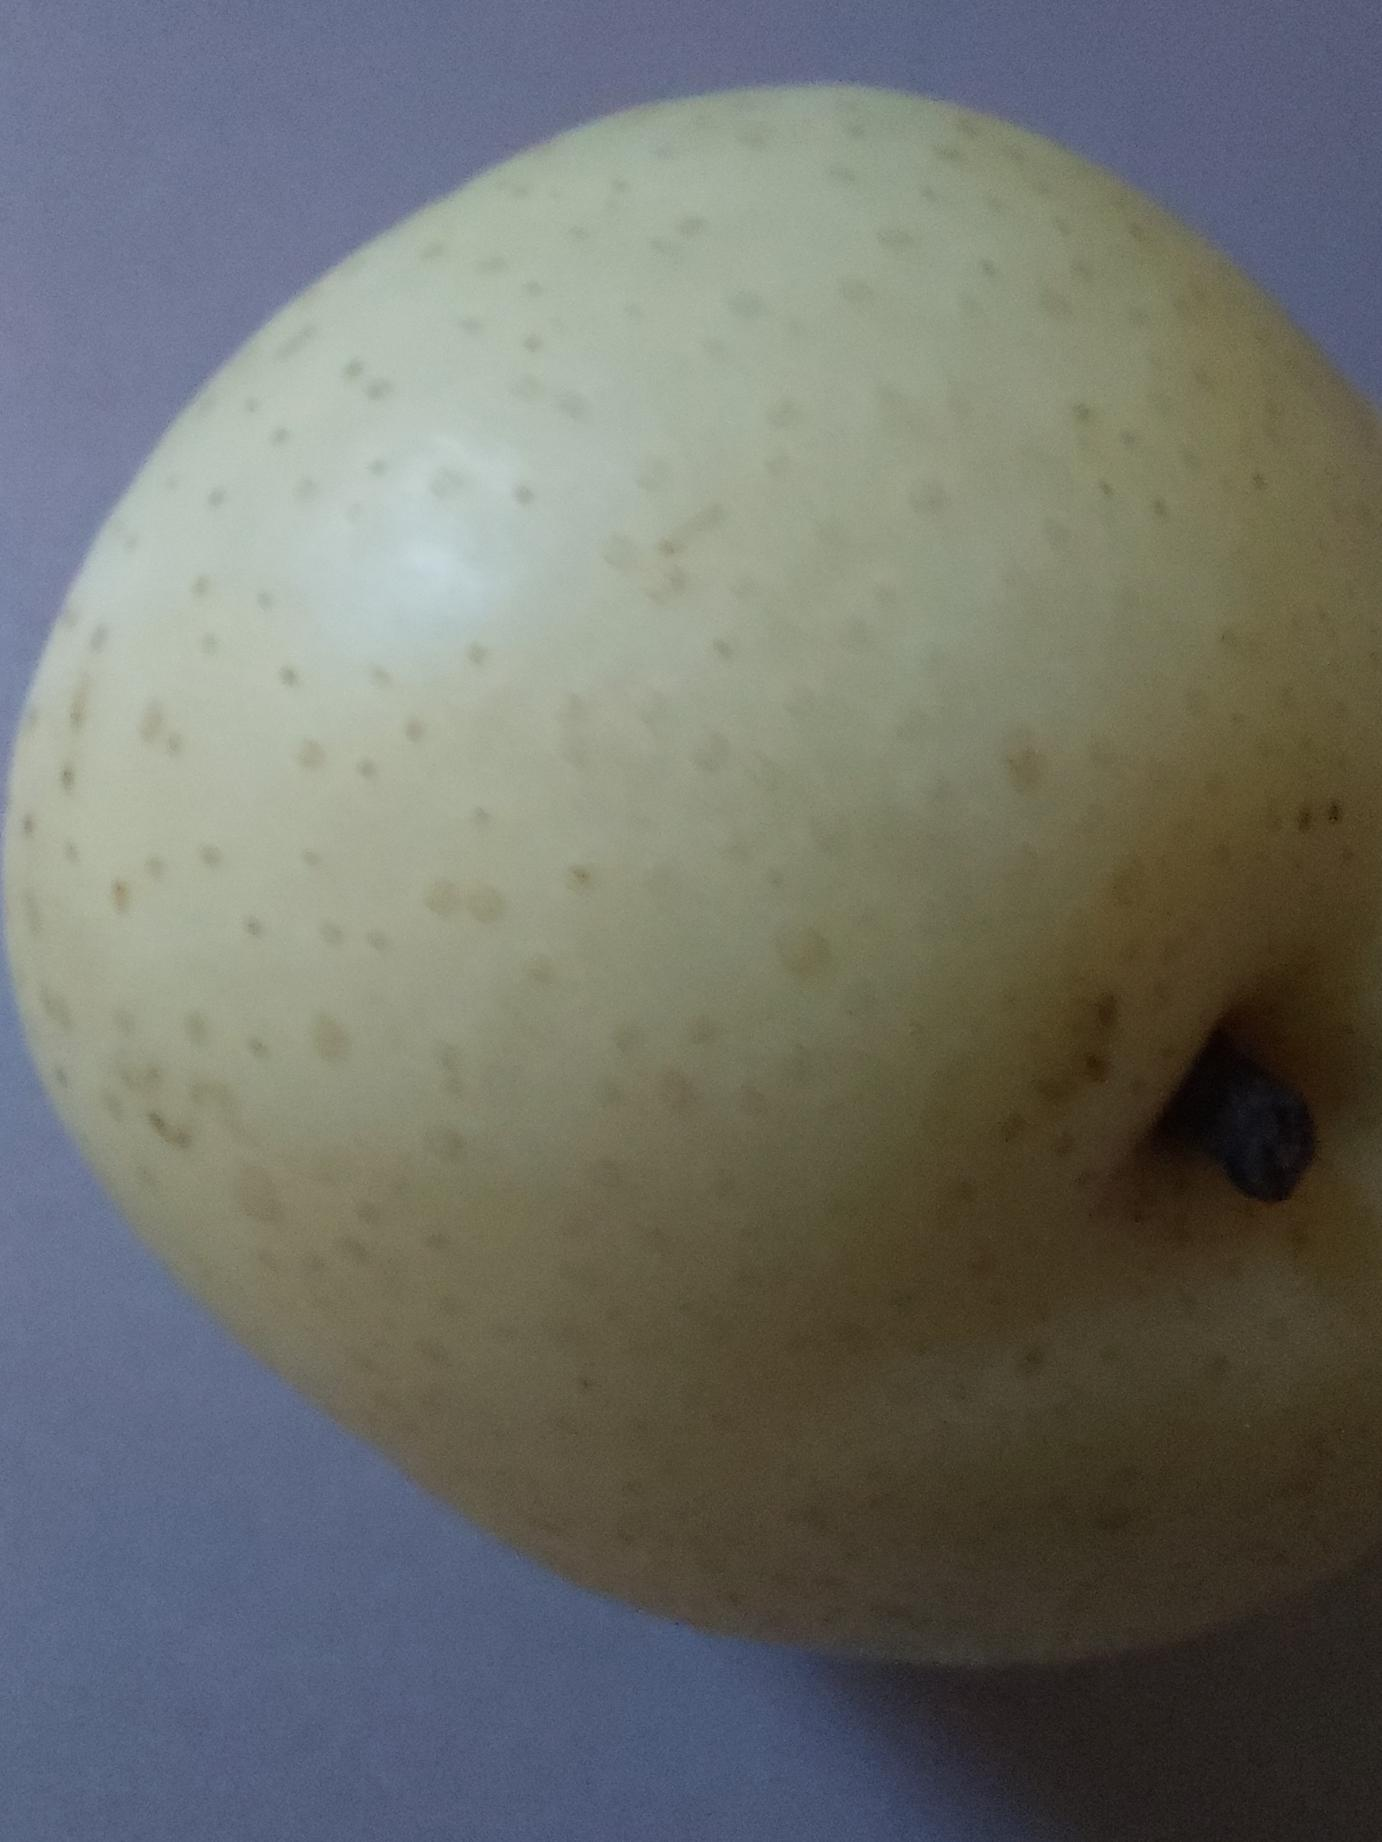Good Pear: (0, 75, 1382, 1703)
